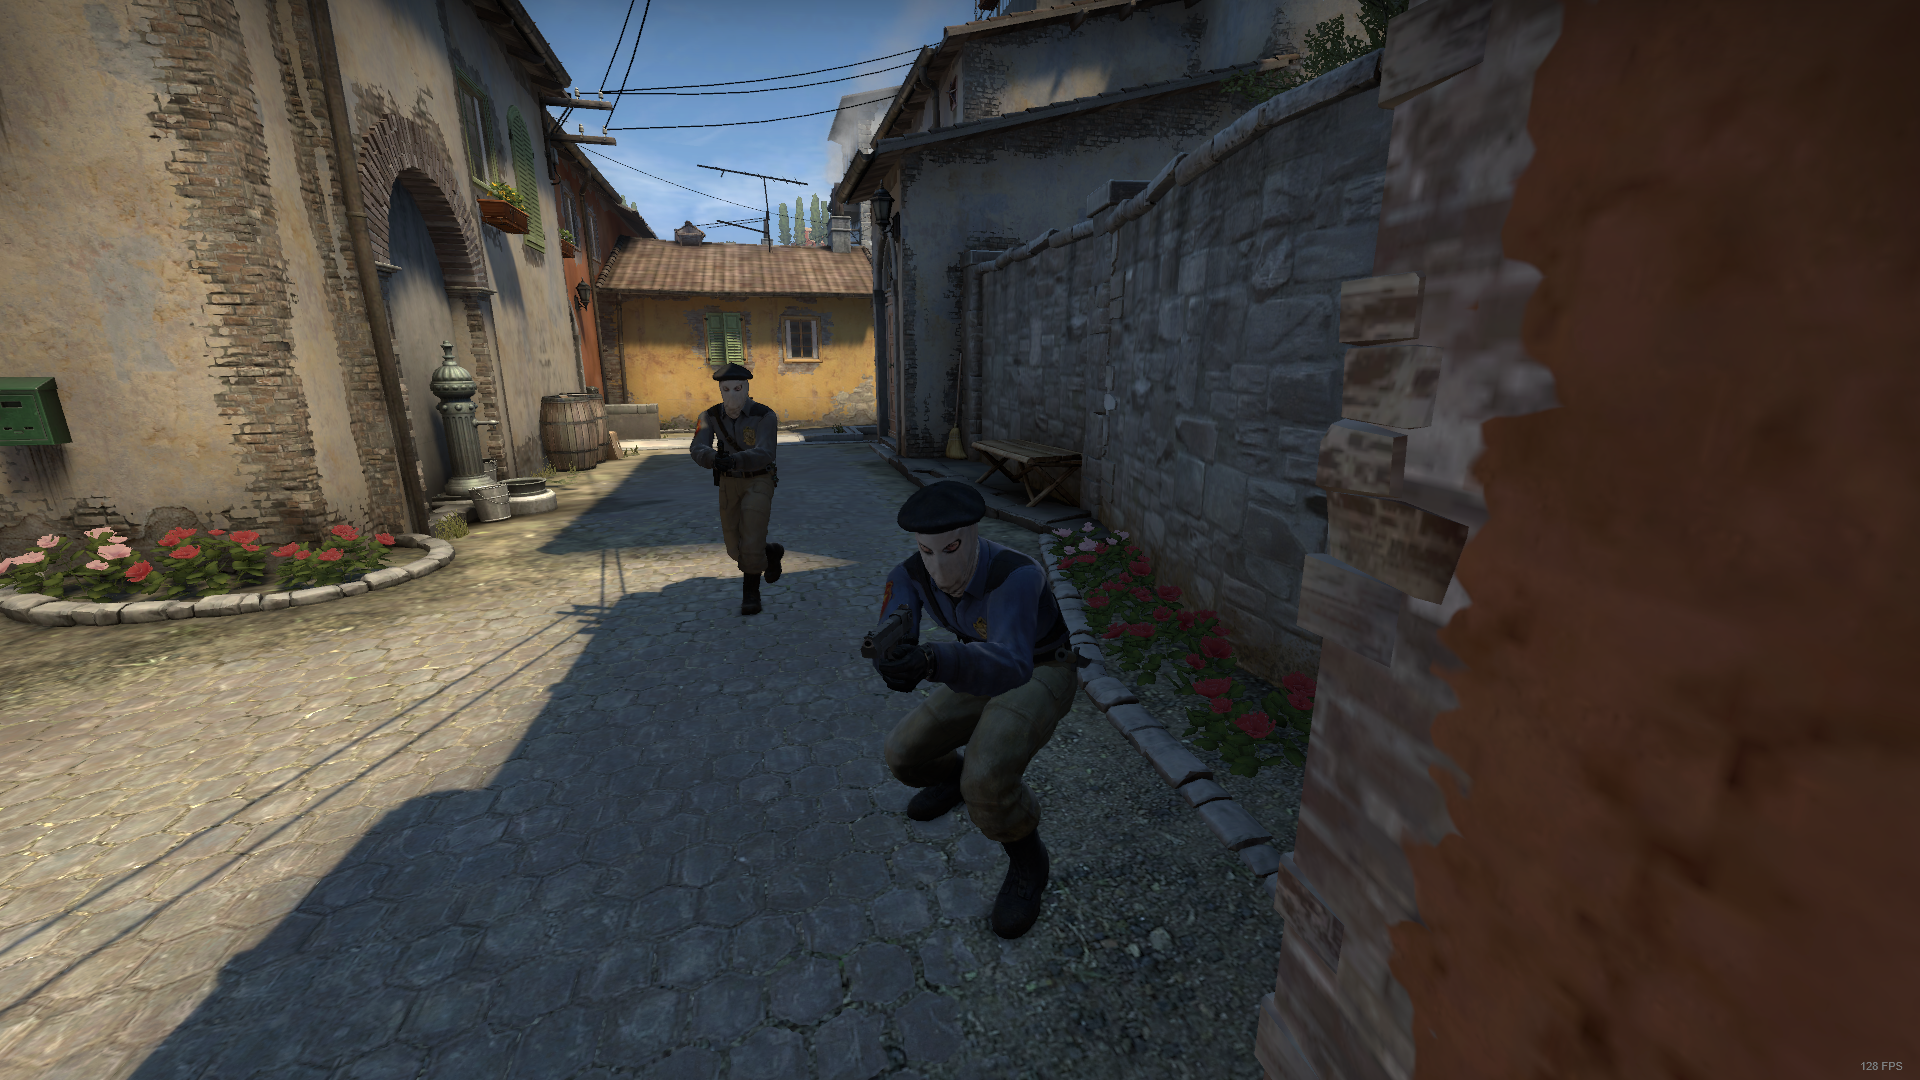t: (852, 473, 1093, 948), (678, 367, 804, 629)
